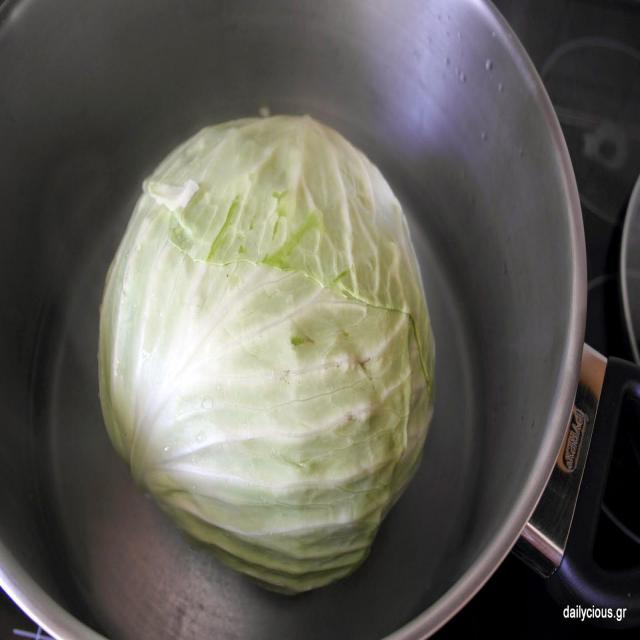cabbage: (94, 104, 436, 598)
